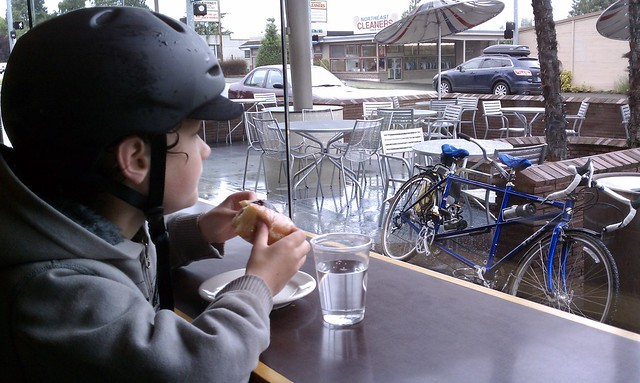baseball glove: (596, 0, 631, 42)
bench: (381, 146, 632, 329), (485, 147, 640, 292), (383, 136, 510, 236), (223, 62, 403, 120), (488, 112, 629, 176), (487, 146, 637, 206), (516, 100, 626, 154), (463, 97, 584, 145), (387, 97, 468, 139), (544, 97, 616, 139), (413, 139, 495, 175), (474, 98, 541, 140), (505, 102, 580, 139), (432, 94, 494, 138), (573, 96, 632, 141), (566, 136, 639, 165), (574, 146, 639, 174), (533, 106, 576, 142), (502, 105, 546, 139), (547, 100, 586, 136), (492, 93, 546, 115), (585, 98, 630, 123), (564, 99, 590, 137), (562, 97, 588, 119), (397, 97, 423, 108)
bicycle: (233, 187, 632, 372), (374, 147, 630, 328), (385, 124, 539, 291), (485, 147, 640, 292), (409, 147, 596, 262), (452, 125, 625, 241), (549, 166, 638, 325), (407, 128, 582, 202), (378, 143, 484, 263), (395, 138, 518, 227), (437, 135, 545, 218), (586, 191, 636, 333), (385, 198, 487, 267), (374, 128, 434, 237)
boat: (231, 61, 414, 116)
bus: (482, 44, 532, 57)
cake: (234, 198, 292, 245)
car: (225, 66, 382, 116), (430, 55, 539, 97), (247, 64, 356, 97), (225, 66, 310, 108), (467, 97, 534, 141), (469, 49, 542, 81), (510, 57, 566, 85), (490, 56, 547, 83), (482, 45, 536, 67), (482, 44, 531, 56), (518, 58, 541, 83)
carrot: (234, 198, 292, 245)
chair: (383, 155, 636, 325), (379, 136, 476, 249), (395, 138, 518, 227), (166, 203, 254, 315), (231, 59, 368, 130), (302, 122, 383, 238), (342, 114, 418, 236), (255, 115, 337, 228), (409, 96, 542, 161), (336, 125, 442, 202), (444, 126, 543, 207), (426, 117, 504, 219), (173, 247, 279, 315), (268, 116, 364, 191), (372, 121, 436, 227), (247, 105, 311, 208), (287, 121, 352, 222), (245, 102, 347, 165), (378, 131, 468, 194), (213, 97, 304, 156), (337, 115, 387, 219), (193, 99, 252, 187), (369, 140, 416, 249), (406, 142, 475, 210), (399, 102, 498, 149), (414, 136, 512, 183), (460, 99, 546, 152), (382, 98, 463, 154), (240, 102, 286, 199), (456, 135, 509, 217), (304, 108, 354, 176), (210, 93, 259, 162), (492, 102, 570, 145), (323, 119, 365, 198), (379, 127, 425, 199), (371, 121, 433, 174), (436, 105, 513, 147), (454, 139, 530, 181), (248, 108, 306, 159), (460, 120, 510, 179), (408, 96, 470, 142), (473, 99, 513, 170), (235, 104, 267, 192), (196, 94, 247, 148), (396, 131, 456, 175), (289, 111, 345, 156), (330, 116, 376, 170), (227, 94, 273, 147), (421, 108, 462, 167), (477, 97, 532, 140), (413, 139, 477, 175), (483, 137, 546, 172), (467, 107, 523, 146), (198, 266, 256, 303), (419, 111, 480, 145), (499, 120, 546, 164), (415, 137, 494, 162), (392, 98, 443, 136), (380, 118, 424, 159), (469, 96, 509, 141), (454, 95, 492, 140), (246, 106, 283, 152), (403, 109, 455, 140), (498, 103, 542, 139), (533, 106, 576, 142), (293, 122, 355, 146), (364, 98, 406, 133), (428, 102, 466, 139), (345, 116, 384, 152), (547, 100, 586, 136), (198, 115, 243, 146), (416, 97, 462, 127), (444, 100, 477, 139), (591, 149, 639, 175), (495, 99, 526, 136), (371, 108, 409, 138), (288, 107, 342, 127), (248, 360, 293, 383), (563, 99, 590, 137), (428, 139, 481, 158), (545, 118, 568, 161), (390, 107, 424, 135), (326, 118, 356, 148), (546, 105, 565, 150), (368, 105, 393, 139), (417, 117, 452, 141), (343, 101, 384, 121), (501, 111, 530, 138), (400, 109, 434, 132), (244, 111, 263, 152), (389, 97, 414, 128), (479, 100, 504, 131), (428, 101, 452, 133), (498, 94, 546, 110), (318, 104, 361, 121), (382, 109, 414, 131), (366, 99, 393, 125), (225, 111, 245, 146), (412, 146, 436, 175), (374, 105, 401, 130), (414, 107, 444, 129), (413, 113, 439, 138), (200, 120, 226, 145), (434, 100, 458, 127), (442, 104, 464, 133), (301, 106, 343, 121), (457, 108, 477, 139), (522, 112, 546, 137), (352, 114, 385, 132), (471, 95, 502, 114), (562, 97, 588, 119), (377, 97, 399, 123), (545, 100, 566, 127), (427, 98, 461, 114), (397, 97, 434, 111), (455, 94, 478, 116), (363, 98, 394, 114), (432, 121, 455, 140), (438, 104, 463, 121), (362, 102, 386, 119), (390, 97, 415, 113), (391, 107, 416, 123), (397, 98, 417, 118), (342, 120, 359, 143), (429, 101, 453, 117), (342, 103, 364, 120), (377, 109, 393, 131), (414, 102, 436, 117), (481, 100, 503, 115), (417, 117, 437, 133), (413, 110, 438, 122), (324, 106, 344, 121), (425, 105, 446, 118), (415, 114, 439, 125), (419, 100, 444, 110), (563, 102, 582, 115), (398, 97, 417, 108), (386, 96, 400, 109), (414, 100, 433, 109)
cup: (310, 232, 372, 327), (245, 106, 299, 208)
dining table: (181, 124, 637, 378), (313, 170, 631, 346), (241, 250, 624, 383), (229, 190, 512, 362), (184, 244, 468, 379), (151, 161, 337, 340), (255, 296, 413, 383), (381, 138, 493, 254), (177, 223, 318, 314), (230, 97, 347, 181), (302, 122, 383, 238), (488, 112, 629, 176), (247, 103, 325, 212), (277, 115, 355, 221), (391, 133, 513, 199), (350, 127, 455, 202), (442, 95, 558, 162), (487, 141, 637, 192), (331, 114, 395, 218), (259, 103, 368, 156), (423, 101, 524, 151), (479, 101, 573, 151), (292, 127, 346, 191), (395, 102, 477, 144), (287, 115, 342, 169), (514, 102, 589, 141), (412, 137, 496, 170), (396, 133, 466, 170), (274, 108, 343, 145), (479, 99, 538, 140), (319, 115, 383, 150), (499, 104, 555, 138), (547, 99, 589, 138), (289, 114, 351, 139), (293, 122, 355, 146), (414, 134, 484, 154), (379, 120, 425, 150), (501, 100, 547, 127), (387, 110, 429, 139), (531, 106, 574, 134), (250, 356, 294, 383), (402, 111, 442, 140), (412, 140, 470, 159), (289, 108, 344, 126), (502, 110, 535, 139), (511, 109, 545, 137), (544, 100, 577, 126), (499, 94, 547, 110), (349, 115, 385, 133), (301, 106, 340, 122), (413, 110, 441, 130), (561, 98, 589, 117), (429, 100, 456, 112), (413, 110, 438, 121)
donut: (230, 200, 285, 245)
fork: (299, 239, 317, 281), (293, 224, 325, 243), (297, 229, 322, 240)
frisbee: (596, 0, 632, 42)
handbag: (579, 182, 638, 234), (596, 0, 632, 42)
hot dog: (231, 199, 286, 244)
kite: (596, 0, 632, 42)
knife: (179, 239, 318, 314)
person: (0, 10, 311, 383), (1, 5, 256, 238), (36, 132, 292, 338), (135, 156, 307, 316), (163, 196, 277, 318), (186, 217, 315, 310), (178, 27, 244, 182), (280, 111, 352, 213), (249, 101, 315, 207), (363, 118, 424, 210), (338, 113, 386, 213), (469, 99, 526, 144), (504, 22, 514, 40)
pizza: (231, 201, 286, 246)
sandwich: (218, 193, 317, 253), (237, 198, 293, 245), (229, 201, 272, 242)
spoon: (297, 229, 322, 240)
sports ball: (596, 0, 632, 42)
surfboard: (596, 0, 632, 43)
tennis racket: (599, 1, 630, 40)
tie: (3, 14, 302, 383), (113, 135, 175, 318)
traffic light: (192, 1, 207, 17), (504, 22, 514, 40)
truck: (224, 65, 387, 118), (431, 54, 539, 96), (482, 44, 532, 57)
umbrella: (0, 6, 247, 257), (343, 2, 510, 79), (370, 0, 504, 49), (595, 0, 632, 43), (481, 44, 535, 57)
vase: (250, 108, 289, 204)
wine glass: (383, 155, 636, 325), (288, 151, 361, 282), (260, 113, 330, 236), (288, 125, 354, 232), (337, 119, 386, 226), (247, 106, 297, 207)
